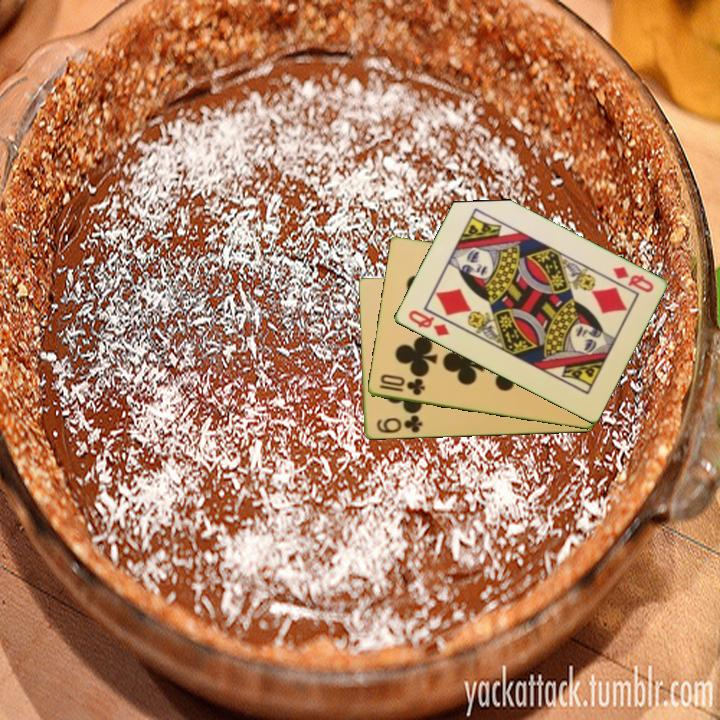10c: (376, 371, 428, 398)
6c: (373, 412, 425, 436)
Qd: (404, 306, 452, 340), (609, 263, 656, 296)
